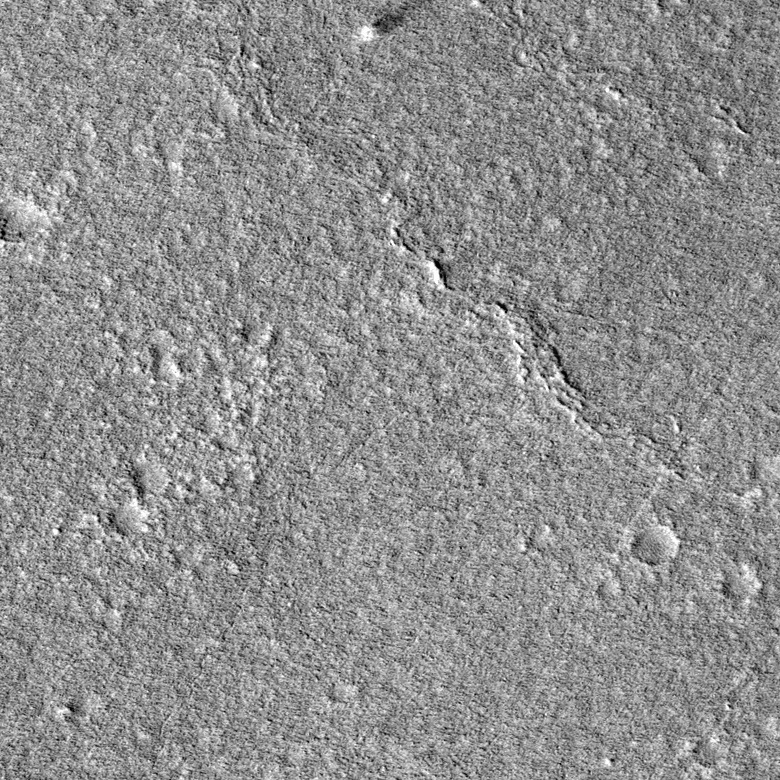dust_devil: (358, 1, 417, 42)
